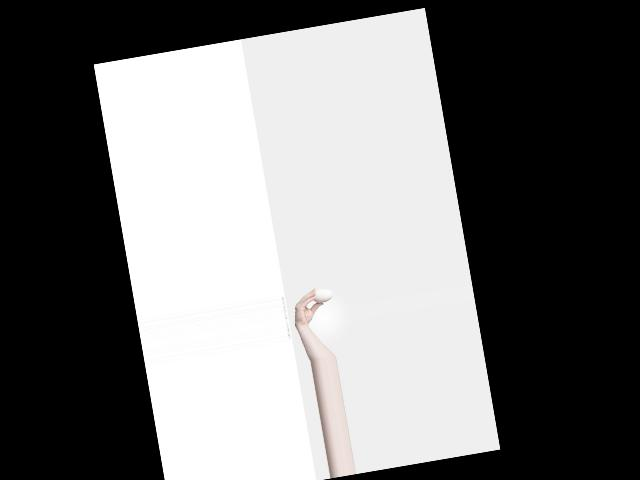egg: (311, 287, 334, 304)
